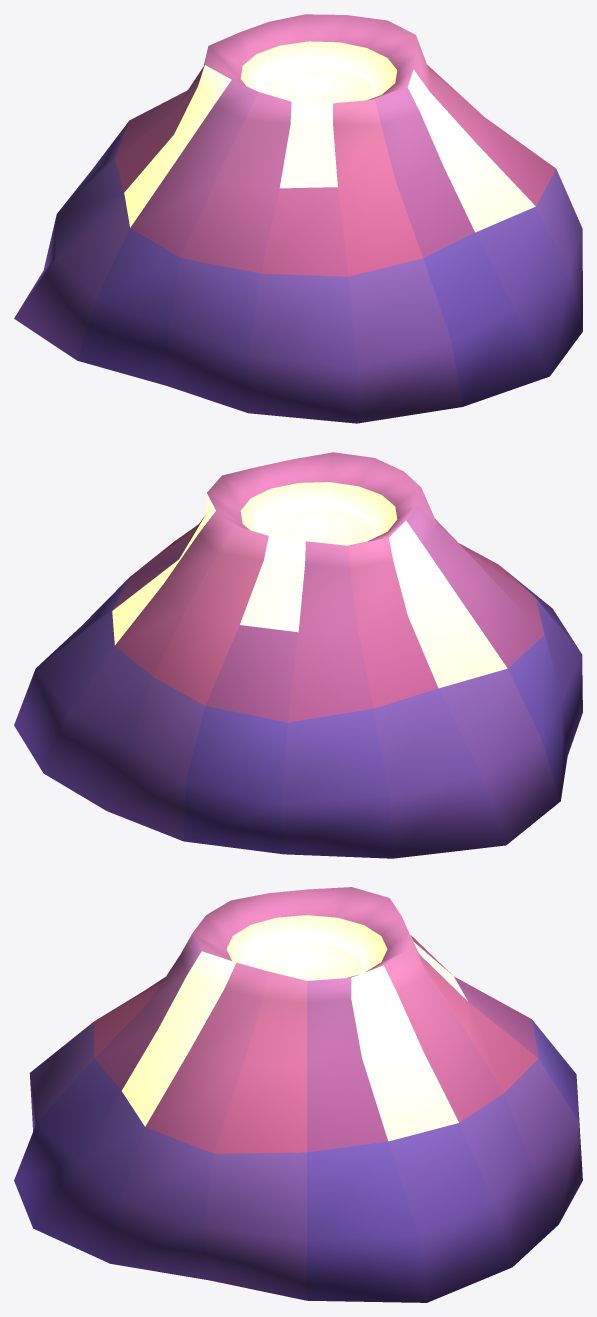
The model's file is BallValley_Kit_Jello_Volcano.fbx.
3 renders of one model, top to bottom at view 1: azimuth 30°, elevation 25°; view 2: azimuth 150°, elevation 25°; view 3: azimuth 270°, elevation 25°, orthographic.
Visible parts, largest first — view 1: BallValley_Kit_Jello_Volcano; view 2: BallValley_Kit_Jello_Volcano; view 3: BallValley_Kit_Jello_Volcano.
Part boxes in pixels (bbox=[...]): BallValley_Kit_Jello_Volcano: bbox=[14, 14, 582, 423]; BallValley_Kit_Jello_Volcano: bbox=[14, 452, 582, 858]; BallValley_Kit_Jello_Volcano: bbox=[14, 887, 582, 1302].
Bounding box in the file's own units: 4.17 × 1.97 × 4.1.
